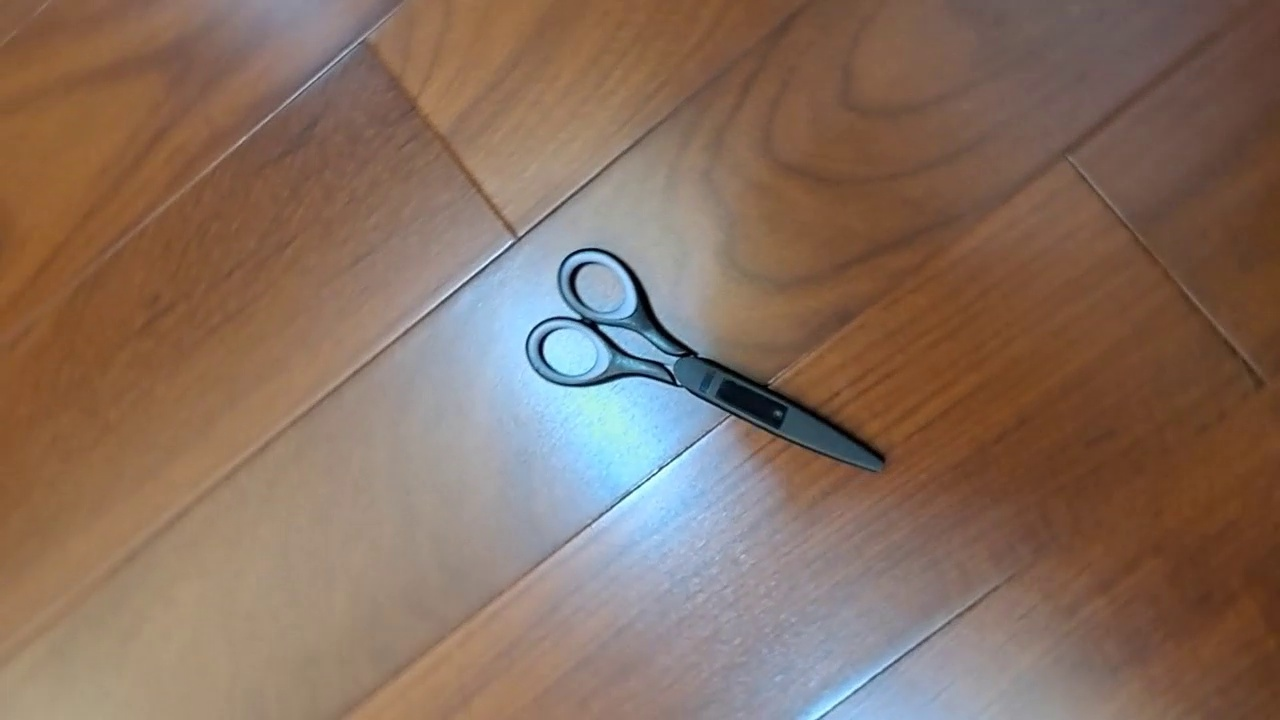scissors: (524, 247, 888, 476)
